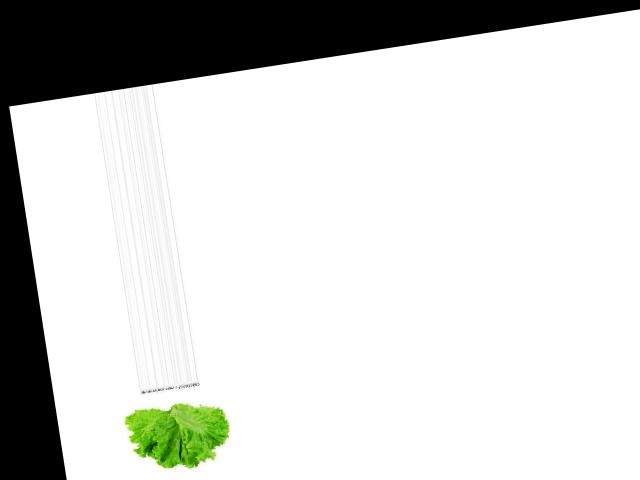lettuce: (120, 383, 236, 477)
